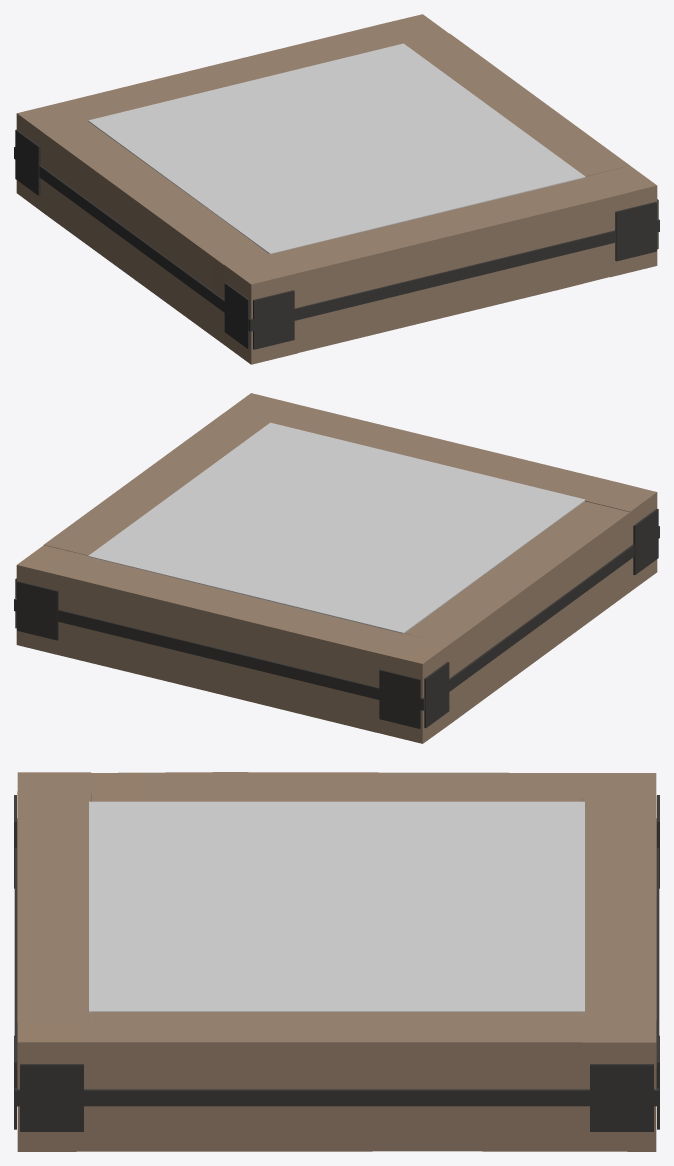
Rendered from Kit_RealTower_R1_Fractured.fbx.
The picture shows the model from 3 angles, top to bottom: view 1: azimuth 30°, elevation 25°; view 2: azimuth 150°, elevation 25°; view 3: azimuth 270°, elevation 25°; orthographic projection. The views are drawn at different scales.
Parts seen in each view (by area): view 1: Kit_RealTower_R1_frag_14, Kit_RealTower_R1_frag_11, Kit_RealTower_R1_frag_10, Kit_RealTower_R1_frag_12, Kit_RealTower_R1_frag_06, Kit_RealTower_R1_frag_13, Kit_RealTower_R1_frag_15, Kit_RealTower_R1_frag_09, Kit_RealTower_R1_frag_05, Kit_RealTower_R1_frag_01, Kit_RealTower_R1_frag_02, Kit_RealTower_R1_frag_16 (+1 smaller); view 2: Kit_RealTower_R1_frag_12, Kit_RealTower_R1_frag_11, Kit_RealTower_R1_frag_10, Kit_RealTower_R1_frag_14, Kit_RealTower_R1_frag_15, Kit_RealTower_R1_frag_16, Kit_RealTower_R1_frag_09, Kit_RealTower_R1_frag_07, Kit_RealTower_R1_frag_08, Kit_RealTower_R1_frag_01, Kit_RealTower_R1_frag_13, Kit_RealTower_R1_frag_02 (+1 smaller); view 3: Kit_RealTower_R1_frag_12, Kit_RealTower_R1_frag_11, Kit_RealTower_R1_frag_14, Kit_RealTower_R1_frag_10, Kit_RealTower_R1_frag_03, Kit_RealTower_R1_frag_04, Kit_RealTower_R1_frag_06, Kit_RealTower_R1_frag_09, Kit_RealTower_R1_frag_13, Kit_RealTower_R1_frag_15, Kit_RealTower_R1_frag_16.
Boxes of the visible parts, x1=… form: Kit_RealTower_R1_frag_14: x1=178, y1=147, x2=525, y2=297; Kit_RealTower_R1_frag_11: x1=306, y1=86, x2=629, y2=215; Kit_RealTower_R1_frag_10: x1=43, y1=81, x2=337, y2=232; Kit_RealTower_R1_frag_12: x1=248, y1=14, x2=538, y2=123; Kit_RealTower_R1_frag_06: x1=456, y1=165, x2=659, y2=314; Kit_RealTower_R1_frag_13: x1=224, y1=232, x2=388, y2=349; Kit_RealTower_R1_frag_15: x1=14, y1=80, x2=178, y2=249; Kit_RealTower_R1_frag_09: x1=132, y1=187, x2=268, y2=298; Kit_RealTower_R1_frag_05: x1=298, y1=281, x2=456, y2=352; Kit_RealTower_R1_frag_01: x1=170, y1=261, x2=297, y2=364; Kit_RealTower_R1_frag_02: x1=91, y1=203, x2=171, y2=306; Kit_RealTower_R1_frag_16: x1=154, y1=46, x2=314, y2=97; Kit_RealTower_R1_frag_12: x1=14, y1=479, x2=301, y2=656; Kit_RealTower_R1_frag_11: x1=133, y1=412, x2=425, y2=551; Kit_RealTower_R1_frag_10: x1=244, y1=528, x2=538, y2=677; Kit_RealTower_R1_frag_14: x1=334, y1=425, x2=585, y2=567; Kit_RealTower_R1_frag_15: x1=285, y1=611, x2=501, y2=743; Kit_RealTower_R1_frag_16: x1=148, y1=578, x2=311, y2=676; Kit_RealTower_R1_frag_09: x1=494, y1=501, x2=630, y2=612; Kit_RealTower_R1_frag_07: x1=217, y1=661, x2=375, y2=732; Kit_RealTower_R1_frag_08: x1=63, y1=623, x2=217, y2=693; Kit_RealTower_R1_frag_01: x1=578, y1=508, x2=659, y2=629; Kit_RealTower_R1_frag_13: x1=494, y1=458, x2=659, y2=545; Kit_RealTower_R1_frag_02: x1=500, y1=584, x2=579, y2=687; Kit_RealTower_R1_frag_12: x1=340, y1=908, x2=659, y2=1151; Kit_RealTower_R1_frag_11: x1=89, y1=908, x2=426, y2=1089; Kit_RealTower_R1_frag_14: x1=14, y1=801, x2=340, y2=1000; Kit_RealTower_R1_frag_10: x1=340, y1=772, x2=584, y2=907; Kit_RealTower_R1_frag_03: x1=15, y1=1064, x2=233, y2=1151; Kit_RealTower_R1_frag_04: x1=233, y1=1089, x2=447, y2=1151; Kit_RealTower_R1_frag_06: x1=14, y1=954, x2=91, y2=1129; Kit_RealTower_R1_frag_09: x1=91, y1=772, x2=340, y2=801; Kit_RealTower_R1_frag_13: x1=14, y1=772, x2=91, y2=910; Kit_RealTower_R1_frag_15: x1=582, y1=773, x2=659, y2=910; Kit_RealTower_R1_frag_16: x1=585, y1=864, x2=659, y2=1000.
Size of what is drawn, in the model's own units: 2.63 by 0.4963 by 2.63.
